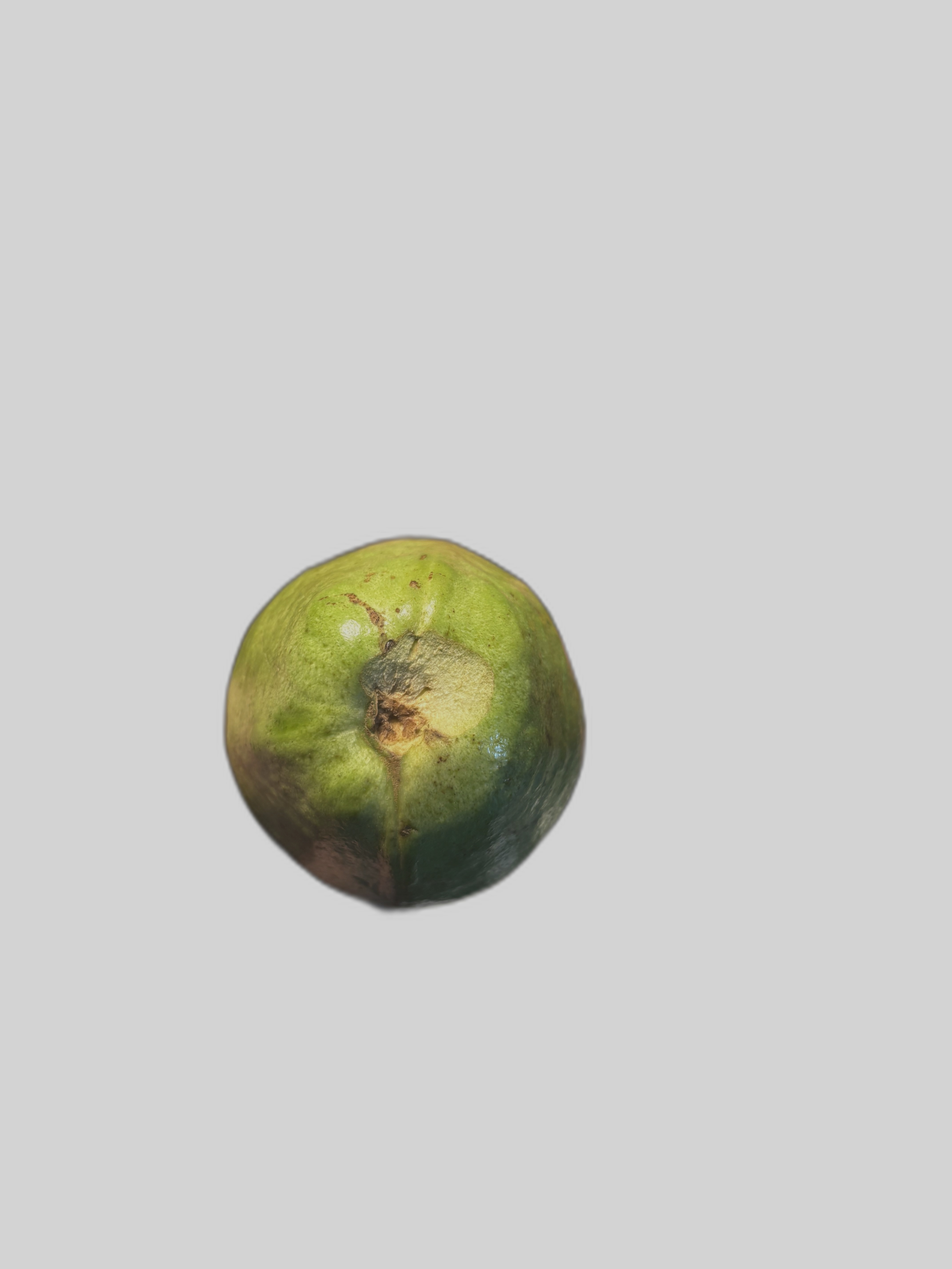guava: (99, 304, 865, 1070)
